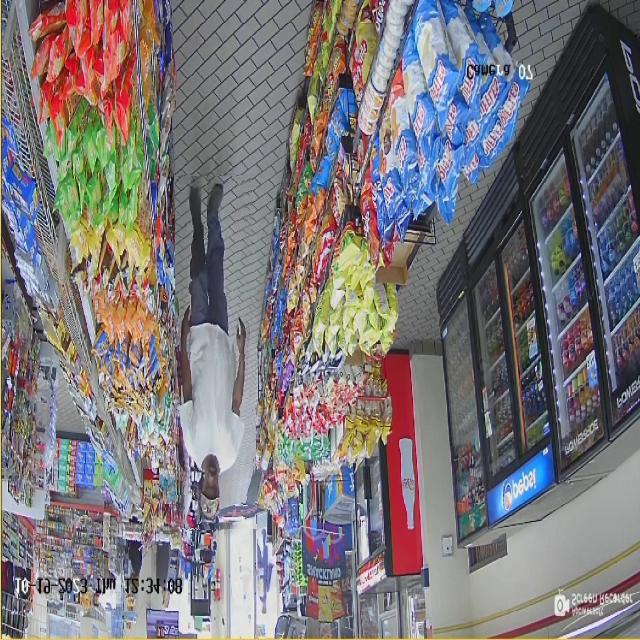Normal: (176, 175, 256, 529)
